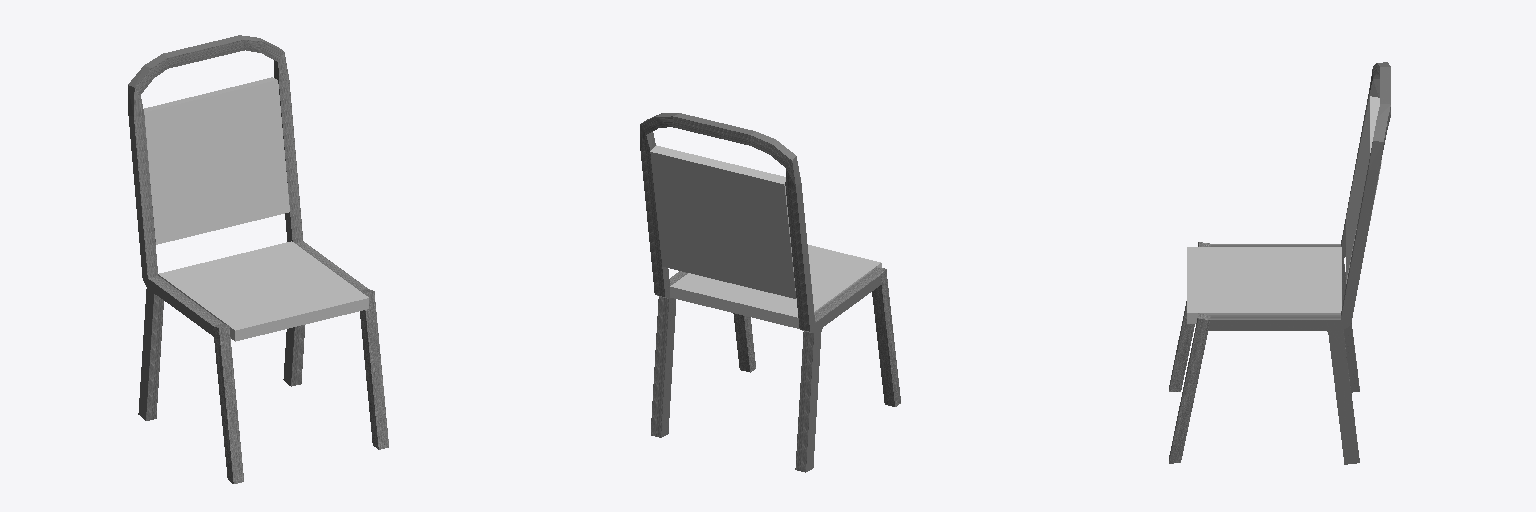
3 renders of one model, left to right at view 1: azimuth 30°, elevation 25°; view 2: azimuth 150°, elevation 25°; view 3: azimuth 270°, elevation 25°, orthographic.
Parts seen in each view (by area): view 1: Cube.002; view 2: Cube.002; view 3: Cube.002.
Part boxes in pixels (bbox=[...]): Cube.002: bbox=[128, 35, 388, 483]; Cube.002: bbox=[640, 113, 900, 472]; Cube.002: bbox=[1169, 62, 1390, 464].
Bounding box in the file's own units: 0.8815 × 1.85 × 1.09.
2 materials, 1 textured.